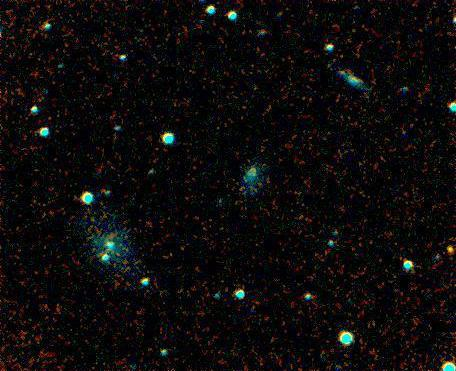star: (433, 234, 456, 264)
